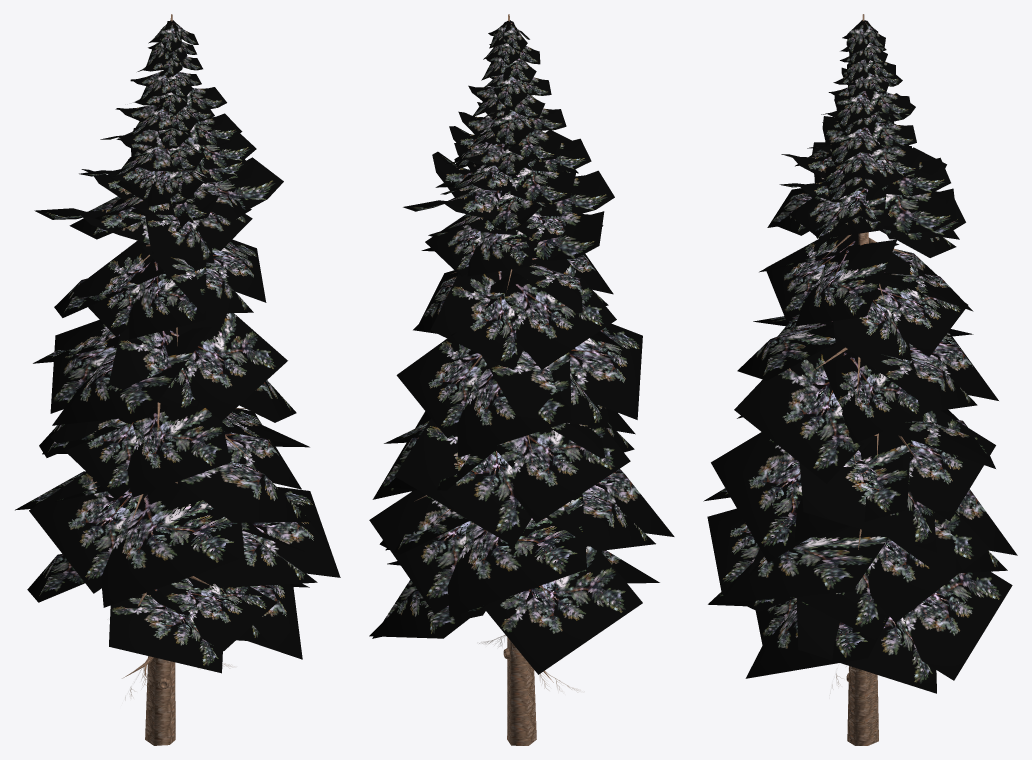
Rendered from spruce.glb.
3 views of the same model, side by side, from view 1: azimuth 30°, elevation 25°; view 2: azimuth 150°, elevation 25°; view 3: azimuth 270°, elevation 25° (orthographic).
Parts seen in each view (by area): view 1: spruce-01; view 2: spruce-01; view 3: spruce-01.
Boxes of the visible parts, x1=… form: spruce-01: x1=15, y1=14, x2=340, y2=745; spruce-01: x1=369, y1=14, x2=674, y2=745; spruce-01: x1=703, y1=14, x2=1017, y2=745.
Size of what is drawn, in the model's own units: 4.77 by 12.34 by 4.81.
Materials: 3 (3 with a texture image).
